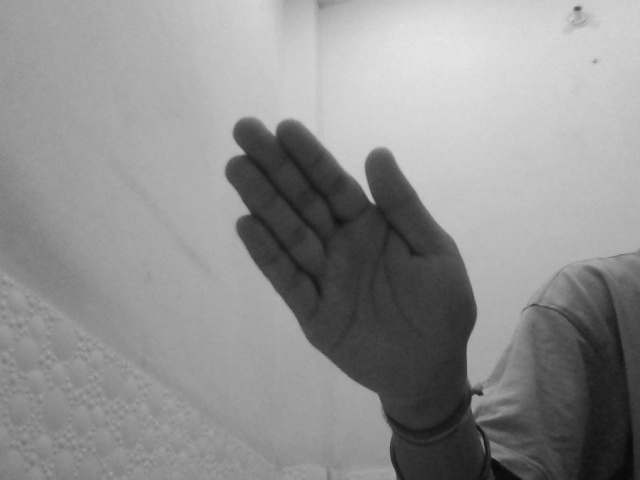Hello: (218, 109, 481, 403)
